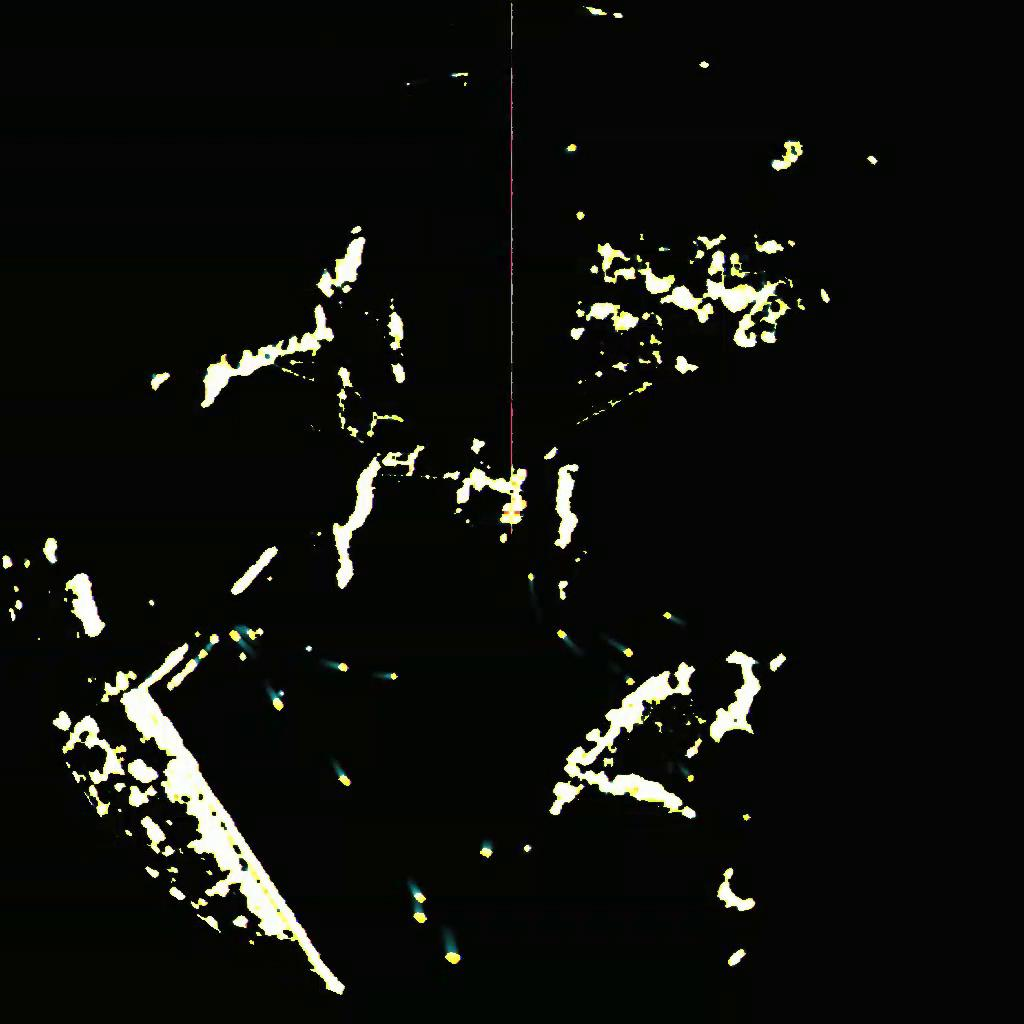B: (442, 927, 461, 965), (604, 635, 634, 658), (332, 759, 352, 788), (228, 629, 253, 652), (554, 627, 577, 650), (408, 877, 427, 903), (661, 609, 688, 627), (267, 686, 285, 712), (322, 659, 350, 673), (412, 899, 428, 923), (235, 624, 256, 641), (478, 840, 494, 858), (372, 671, 399, 681), (206, 633, 220, 650), (680, 766, 694, 783), (193, 649, 210, 662), (526, 571, 535, 595), (624, 674, 635, 686)
